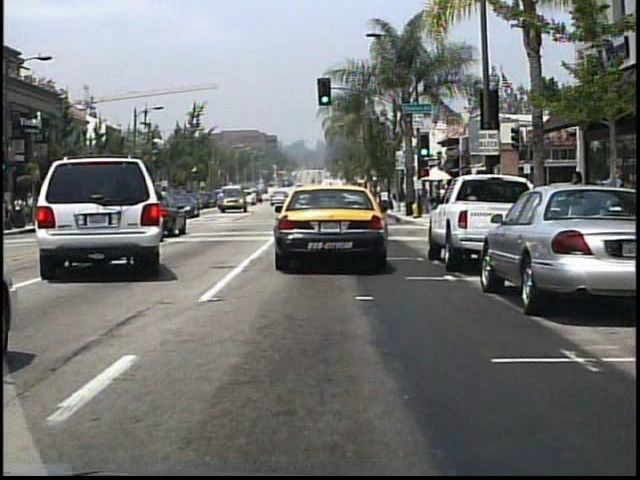person: (565, 169, 586, 240), (598, 170, 622, 232)
